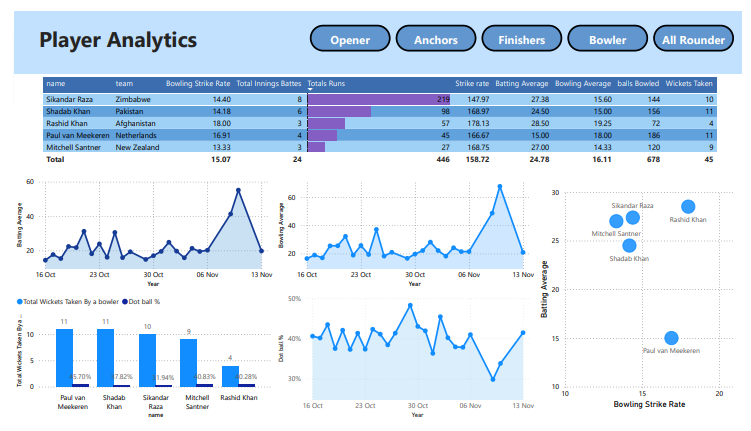

What the dashboard file says about the page in this screenshot:
{"tool":"powerbi","page":{"name":"All-Rounder","canvas":[1280,720],"ordinal":4},"visuals":[{"type":"tableEx","fields":{"Values":["dim_players.name","dim_players.team","key_measures.Bowling Strike Rate","key_measures.Total Innings Battes","key_measures.Totals Runs","key_measures.Strike rate","key_measures.Batting Average","key_measures.Bowling Average","key_measures.balls Bowled","key_measures.Total Wickets Taken By a bowler"]},"box":[46.7,110,1195.6,176.7],"z":0},{"type":"lineChart","fields":{"Y":["key_measures.Batting Average"],"Category":["dim_match_summary.matchDate.Variation.Date Hierarchy.Year","dim_match_summary.matchDate.Variation.Date Hierarchy.Quarter","dim_match_summary.matchDate.Variation.Date Hierarchy.Month","dim_match_summary.matchDate.Variation.Date Hierarchy.Day"]},"box":[0,285,460,205],"z":1000},{"type":"clusteredColumnChart","fields":{"Category":["dim_players.name"],"Y":["key_measures.Total Wickets Taken By a bowler","key_measures.Dot ball %"]},"box":[0,490,460,230],"z":2000},{"type":"scatterChart","fields":{"Y":["key_measures.Batting Average"],"Category":["dim_players.name"],"X":["key_measures.Bowling Strike Rate"]},"box":[920,302.5,360,400],"z":3000},{"type":"lineChart","fields":{"Category":["dim_match_summary.matchDate.Variation.Date Hierarchy.Year","dim_match_summary.matchDate.Variation.Date Hierarchy.Quarter","dim_match_summary.matchDate.Variation.Date Hierarchy.Month","dim_match_summary.matchDate.Variation.Date Hierarchy.Day"],"Y":["key_measures.Bowling Average"]},"box":[460,286.7,460,203.3],"z":4000},{"type":"textbox","box":[0,0,1280,110],"z":5000},{"type":"lineChart","fields":{"Category":["dim_match_summary.matchDate.Variation.Date Hierarchy.Year","dim_match_summary.matchDate.Variation.Date Hierarchy.Quarter","dim_match_summary.matchDate.Variation.Date Hierarchy.Month","dim_match_summary.matchDate.Variation.Date Hierarchy.Day"],"Y":["key_measures.Dot ball %"]},"box":[460,490,460,230],"z":6000},{"type":"actionButton","box":[672.4,23.3,141.3,46.7],"z":7000},{"type":"actionButton","box":[823.3,23.3,141.3,46.7],"z":8000},{"type":"actionButton","box":[974.3,23.3,141.3,46.7],"z":9000},{"type":"actionButton","box":[1125.2,23.3,141.3,46.7],"z":10000},{"type":"actionButton","box":[521.4,23.3,141.3,46.7],"z":11000}]}

Visuals, with their boxes in screenshot pixels (x1, y1, x2, y2), scaled from the page's 1280x720 canvas onto the 751x431 screenshot:
tableEx - dim_players.name x dim_players.team: (27,66,729,172)
lineChart - key_measures.Batting Average x dim_match_summary.matchDate.Variation.Date Hierarchy.Year: (0,171,270,293)
clusteredColumnChart - dim_players.name x key_measures.Total Wickets Taken By a bowler: (0,293,270,430)
scatterChart - key_measures.Batting Average x dim_players.name: (540,181,750,421)
lineChart - dim_match_summary.matchDate.Variation.Date Hierarchy.Year x dim_match_summary.matchDate.Variation.Date Hierarchy.Quarter: (270,172,540,293)
textbox: (0,0,750,66)
lineChart - dim_match_summary.matchDate.Variation.Date Hierarchy.Year x dim_match_summary.matchDate.Variation.Date Hierarchy.Quarter: (270,293,540,430)
actionButton: (395,14,477,42)
actionButton: (483,14,566,42)
actionButton: (572,14,655,42)
actionButton: (660,14,743,42)
actionButton: (306,14,389,42)
